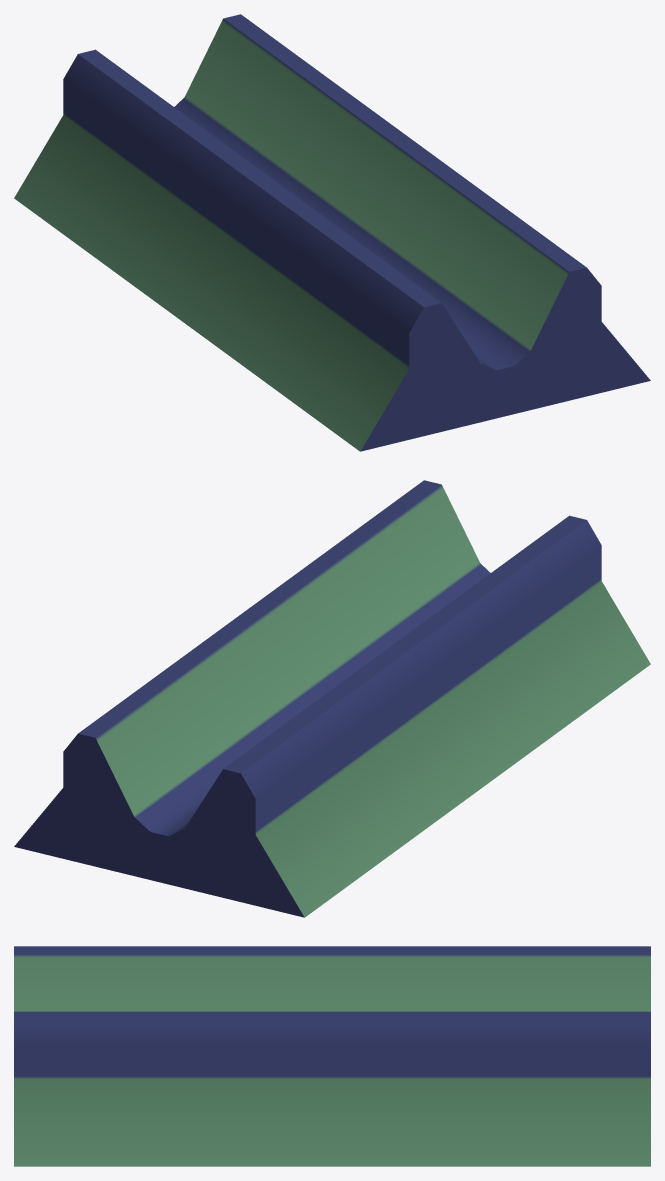
The model's file is energy_circuit_line.FBX.
3 views of the same model, one above another, from view 1: azimuth 30°, elevation 25°; view 2: azimuth 150°, elevation 25°; view 3: azimuth 270°, elevation 25° (orthographic). The views are drawn at different scales.
Visible parts, largest first — view 1: energy_circuit_line; view 2: energy_circuit_line; view 3: energy_circuit_line.
Boxes of the visible parts, box(x1,y1,x2,y2) form: energy_circuit_line: box(14, 14, 650, 451); energy_circuit_line: box(14, 480, 650, 917); energy_circuit_line: box(14, 946, 650, 1166).
Bounding box in the file's own units: 0.4169 × 0.8597 × 0.1764.
